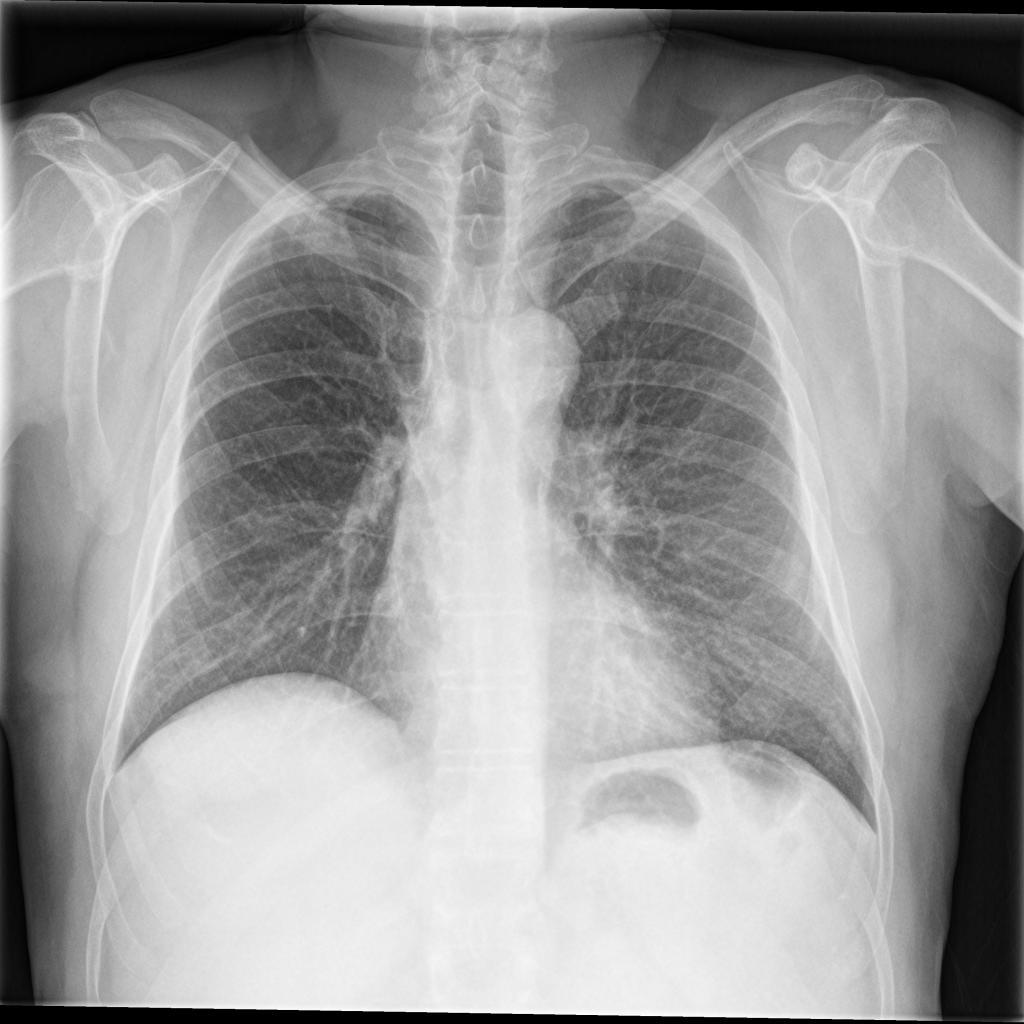Nodule: (201, 88, 210, 99)
